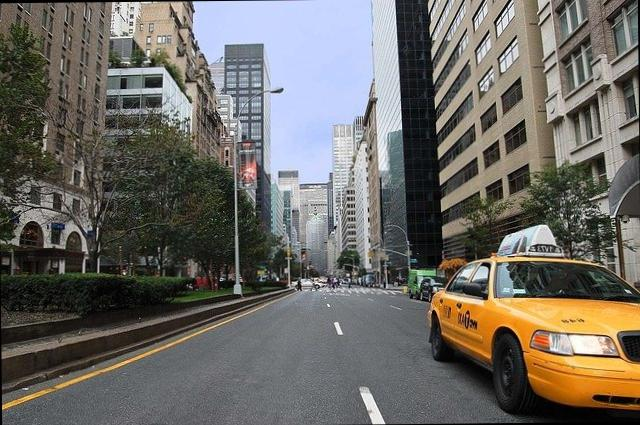taxi: (422, 250, 640, 415)
